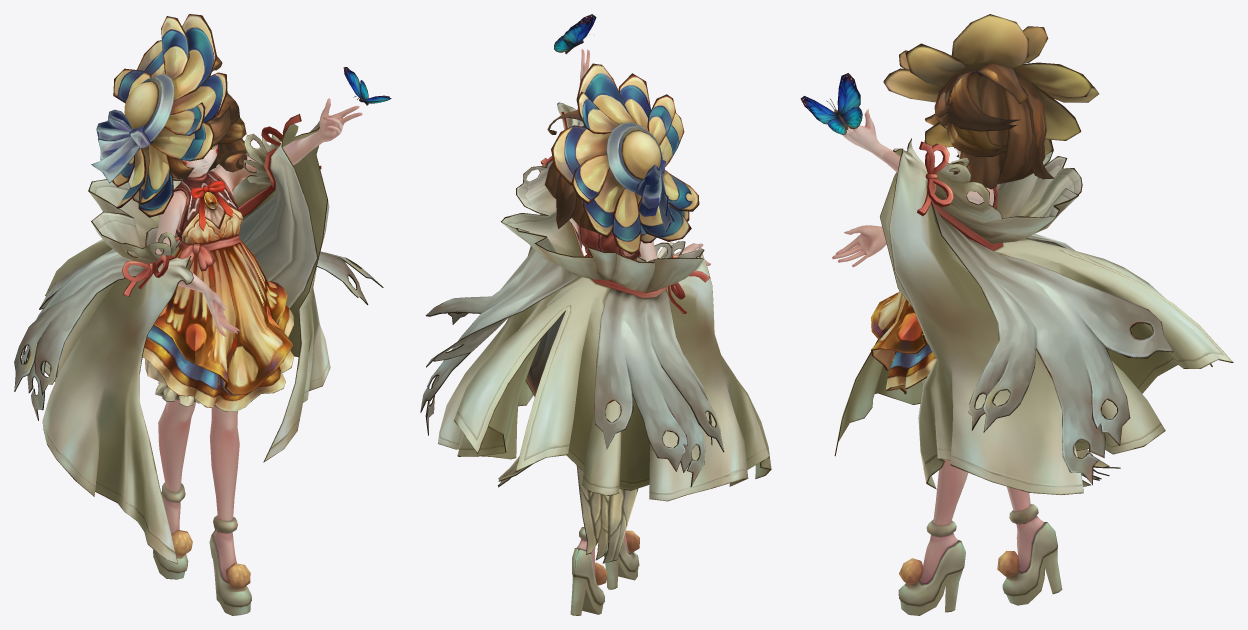
Rendered from butterfly_girl-4zNp53Oc.glb.
3 views of the same model, side by side, from view 1: azimuth 30°, elevation 25°; view 2: azimuth 150°, elevation 25°; view 3: azimuth 270°, elevation 25° (orthographic). The views are drawn at different scales.
Visible parts, largest first — view 1: robe_robe_0, body_body_0, face_face_0, butterfly_butterfly_0; view 2: robe_robe_0, face_face_0, body_body_0, butterfly_butterfly_0; view 3: robe_robe_0, face_face_0, body_body_0, butterfly_butterfly_0.
Part boxes in pixels (bbox=[...]): robe_robe_0: bbox=[14, 114, 383, 564]; body_body_0: bbox=[142, 98, 362, 615]; face_face_0: bbox=[91, 14, 247, 217]; butterfly_butterfly_0: bbox=[343, 67, 391, 105]; robe_robe_0: bbox=[420, 102, 771, 563]; face_face_0: bbox=[544, 63, 699, 254]; body_body_0: bbox=[569, 49, 710, 615]; butterfly_butterfly_0: bbox=[554, 14, 596, 54]; robe_robe_0: bbox=[834, 138, 1233, 494]; face_face_0: bbox=[883, 14, 1099, 189]; body_body_0: bbox=[832, 109, 1062, 615]; butterfly_butterfly_0: bbox=[800, 73, 862, 134].
Size of the model in its own units: 152 by 242 by 159.
4 materials, 4 textured.
